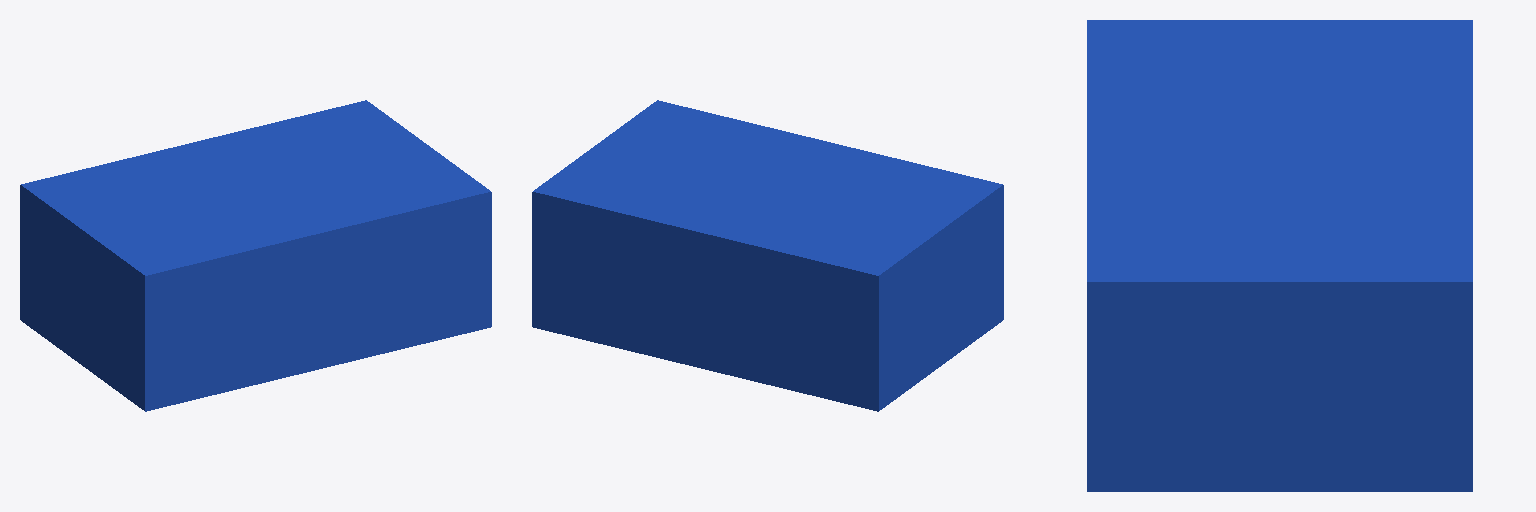
The robot description file, URDF, robot "panther_robot":
<?xml version="1.0" ?>
<robot name="panther_robot">
  <link name="odom" />
  <link name="base_footprint" />
  <link name="base_link" />
  <link name="body_link">
    <visual>
      <origin xyz="0 0 0" rpy="0 0 0"/>
      <geometry>
        <box size="0.8 0.5 0.3"/>
      </geometry>
      <material name="blue">
        <color rgba="0.2 0.4 0.8 1.0"/>
      </material>
    </visual>
    <collision>
      <origin xyz="0 0 0" rpy="0 0 0"/>
      <geometry>
        <box size="0.8 0.5 0.3"/>
      </geometry>
    </collision>
  </link>

  <joint name="odom_to_base_footprint" type="fixed">
    <parent link="odom"/>
    <child link="base_footprint"/>
    <origin xyz="0 0 0" rpy="0 0 0"/>
  </joint>

  <joint name="base_footprint_to_base" type="fixed">
    <parent link="base_footprint"/>
    <child link="base_link"/>
    <origin xyz="0 0 0.05" rpy="0 0 0"/>
  </joint>

  <joint name="base_to_body" type="fixed">
    <parent link="base_link"/>
    <child link="body_link"/>
    <origin xyz="0 0 0.25" rpy="0 0 0"/>
  </joint>
</robot>

--- Render facts (derived) ---
Views: 3 orthographic renders of the robot side by side, from view 1: azimuth 30°, elevation 25°; view 2: azimuth 150°, elevation 25°; view 3: azimuth 270°, elevation 25°.
Model panther_robot with 4 links and 3 joints (3 fixed), rooted at odom, posed every joint at zero.
Visible links, largest first — view 1: body_link; view 2: body_link; view 3: body_link.
Boxes of the visible links, x1,y1,x2,y2 form: body_link: (20,100,491,411); body_link: (532,100,1003,411); body_link: (1087,20,1472,491).
Size in the robot's own frame: 0.8 by 0.5 by 0.3 metres.
Geometry: primitives only (box / cylinder / sphere), no mesh files.
